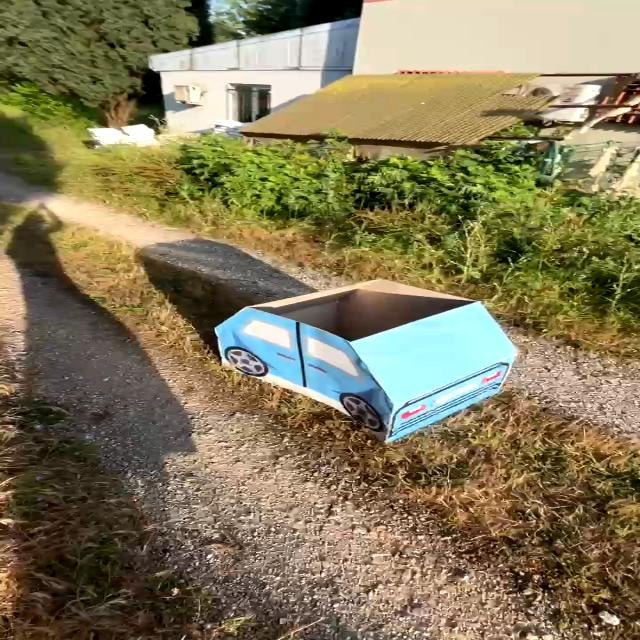blue_car: (172, 267, 532, 442)
